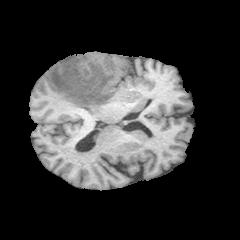glioma: (49, 52, 122, 109)
